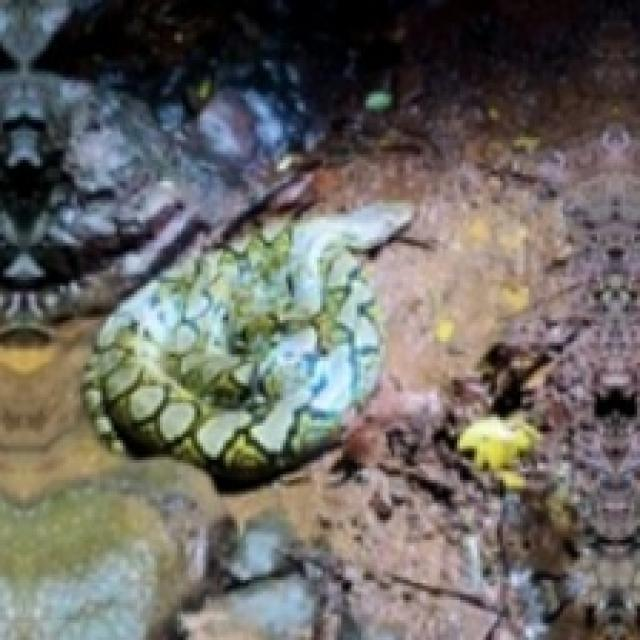reticulated python: (89, 217, 377, 483)
